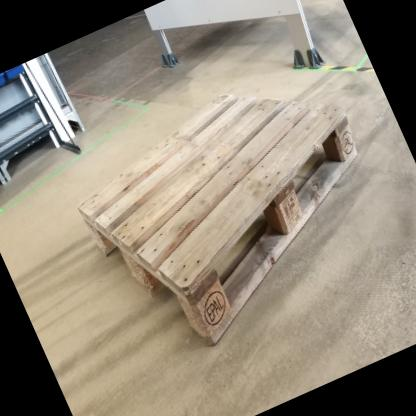BoxFace: (70, 92, 365, 360)
